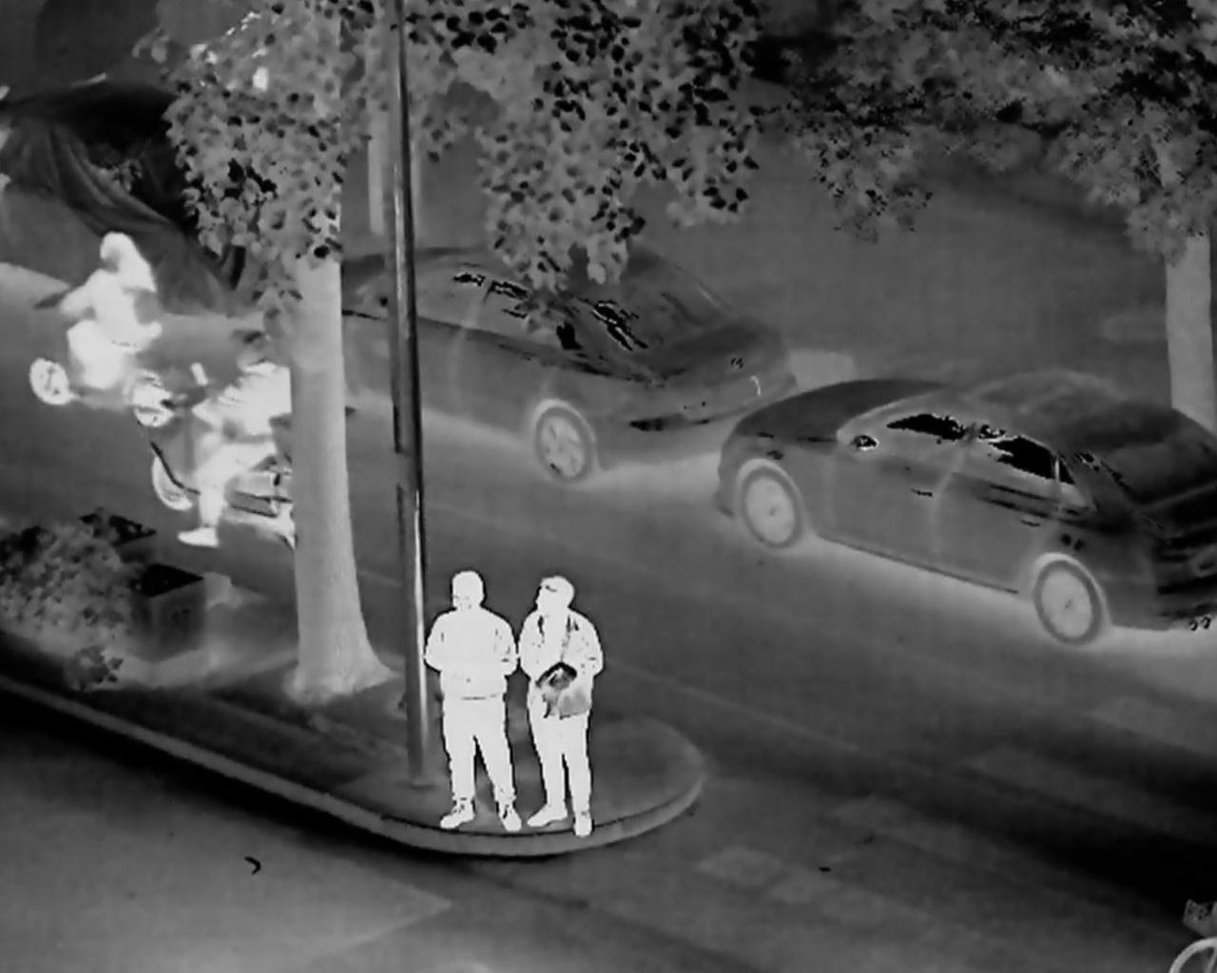person: (170, 326, 323, 564), (423, 562, 526, 836), (45, 206, 160, 437), (513, 564, 597, 838)
